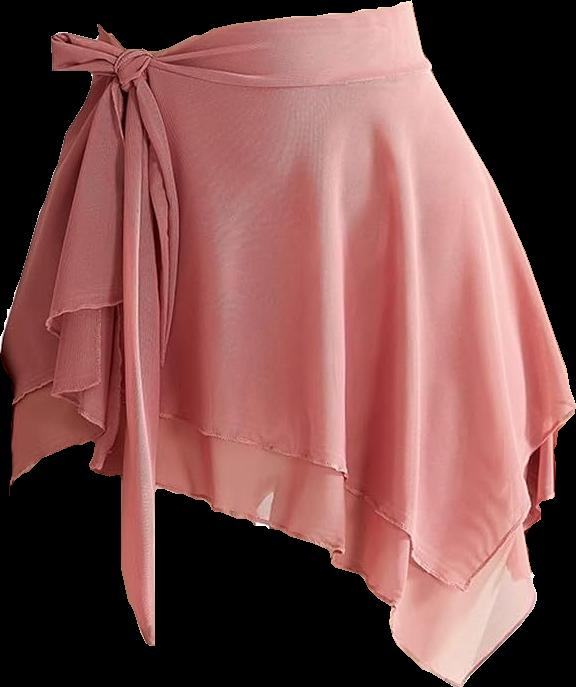Hemline: (6, 300, 575, 589), (8, 410, 543, 686)
Waistline: (96, 0, 417, 58), (91, 59, 431, 95)
